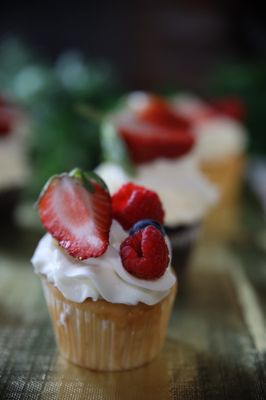sushi: (23, 85, 253, 392), (30, 166, 179, 372)
